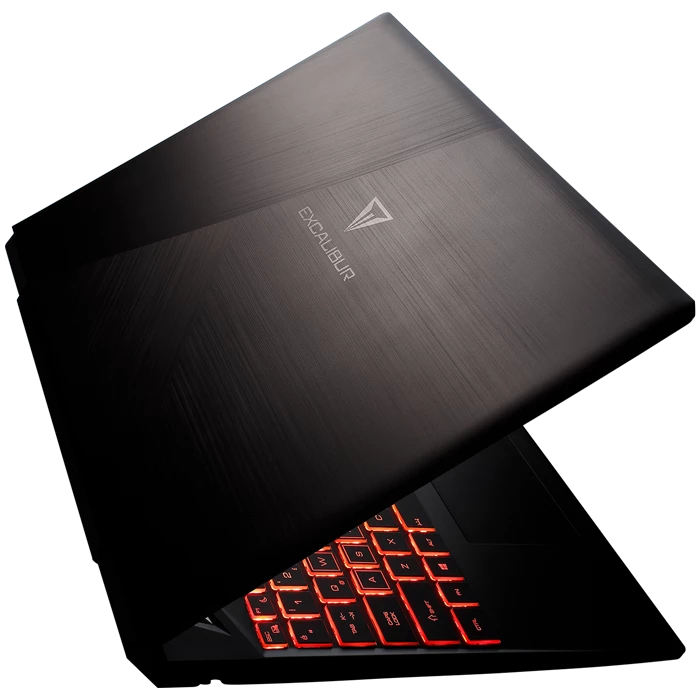laptop: (1, 5, 686, 659)
